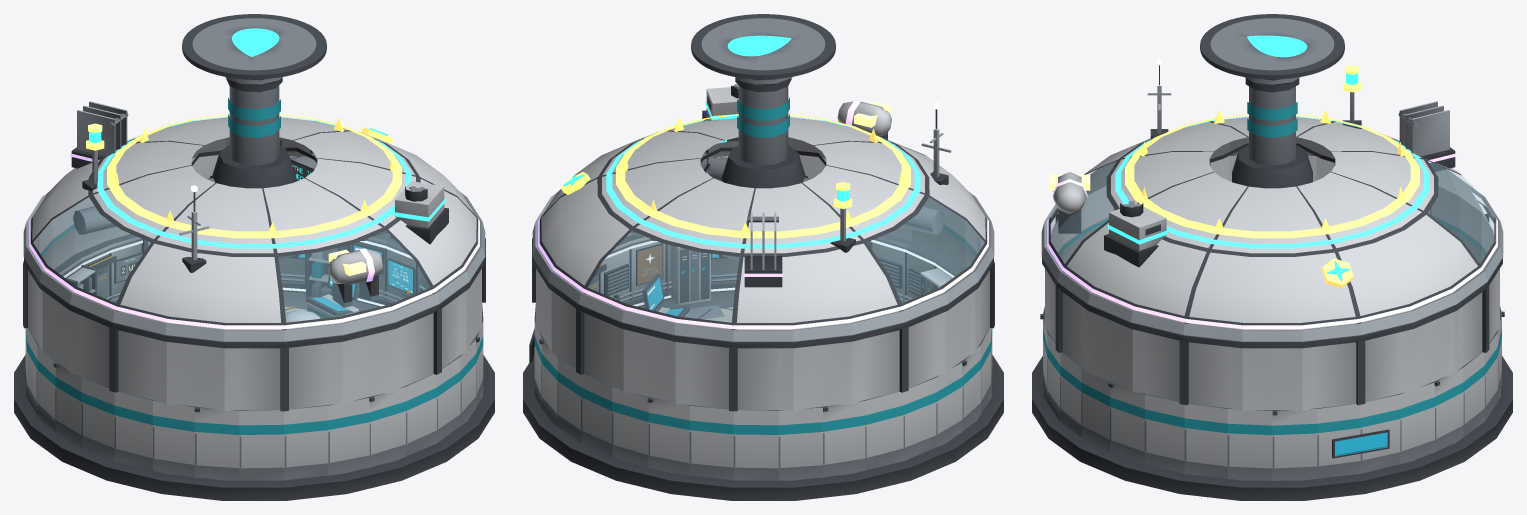
File: oxygen_plant_s.glb
3 views of the same model, side by side, from view 1: azimuth 30°, elevation 25°; view 2: azimuth 150°, elevation 25°; view 3: azimuth 270°, elevation 25° (orthographic).
Visible parts, largest first — view 1: Roof, Base, L5, L3, L4, Wall_21, Wall_22, Wall_20, Upper_21, Upper_20, Wall_19, Wall_23 (+43 smaller); view 2: Roof, Base, L5, L3, L4, Wall_10, Wall_09, Wall_11, Upper_10, Upper_11, Wall_08, Wall_12 (+43 smaller); view 3: Roof, Base, L5, L3, L4, Wall_00, Wall_31, Wall_30, Upper_00, Upper_31, Upper_01, Upper_30 (+33 smaller).
Boxes of the visible parts, x1,y1,x2,y2 form: Roof: (24, 14, 484, 342); Base: (14, 291, 494, 500); L5: (82, 114, 401, 238); L3: (97, 116, 448, 248); L4: (70, 101, 382, 307); Wall_21: (239, 410, 284, 480); Wall_22: (284, 405, 328, 480); Wall_20: (194, 406, 239, 480); Upper_21: (239, 342, 284, 411); Upper_20: (195, 339, 239, 410); Wall_19: (153, 400, 195, 477); Wall_23: (328, 397, 369, 475); Roof: (533, 14, 993, 342); Base: (523, 291, 1003, 500); L5: (560, 114, 910, 252); L3: (606, 84, 920, 248); L4: (743, 100, 891, 287); Wall_10: (733, 410, 778, 480); Wall_09: (689, 405, 733, 480); Wall_11: (778, 406, 822, 480); Upper_10: (733, 342, 778, 411); Upper_11: (778, 339, 822, 410); Wall_08: (647, 397, 689, 475); Wall_12: (822, 400, 864, 477); Roof: (1042, 14, 1502, 342); Base: (1032, 356, 1512, 500); L5: (1125, 65, 1419, 287); L3: (1104, 116, 1429, 267); L4: (1049, 101, 1456, 233); Wall_00: (1272, 408, 1317, 480); Wall_31: (1227, 408, 1272, 480); Wall_30: (1184, 404, 1227, 478); Upper_00: (1272, 340, 1317, 410); Upper_31: (1227, 340, 1272, 410); Upper_01: (1317, 336, 1361, 408); Upper_30: (1183, 336, 1227, 408).
Bounding box in the file's own units: 8.13 × 6.63 × 8.13.
